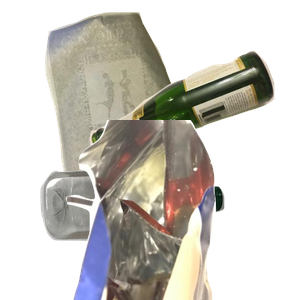glass: (87, 48, 300, 190)
paper: (43, 10, 221, 185)
plastic: (38, 165, 255, 300)
trash: (63, 120, 300, 300)
